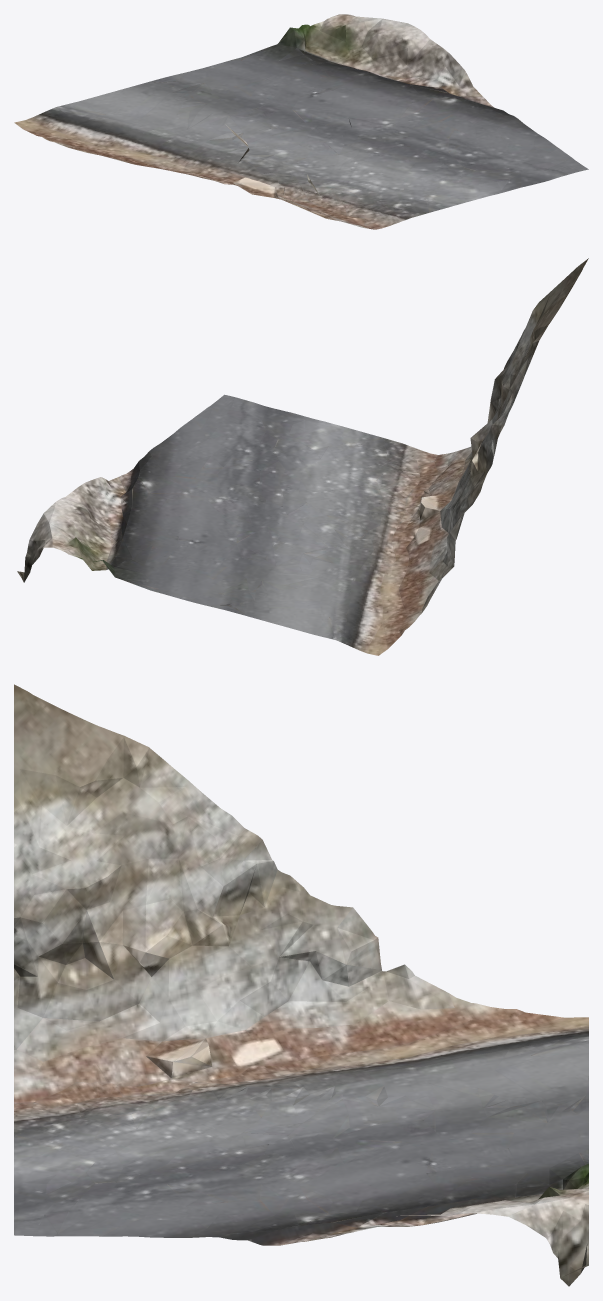
3 renders of one model, top to bottom at view 1: azimuth 30°, elevation 25°; view 2: azimuth 150°, elevation 25°; view 3: azimuth 270°, elevation 25°, orthographic. The views are drawn at different scales.
Size of the model in its own units: 5.9 by 4.09 by 5.9.
3 materials, 3 textured.
